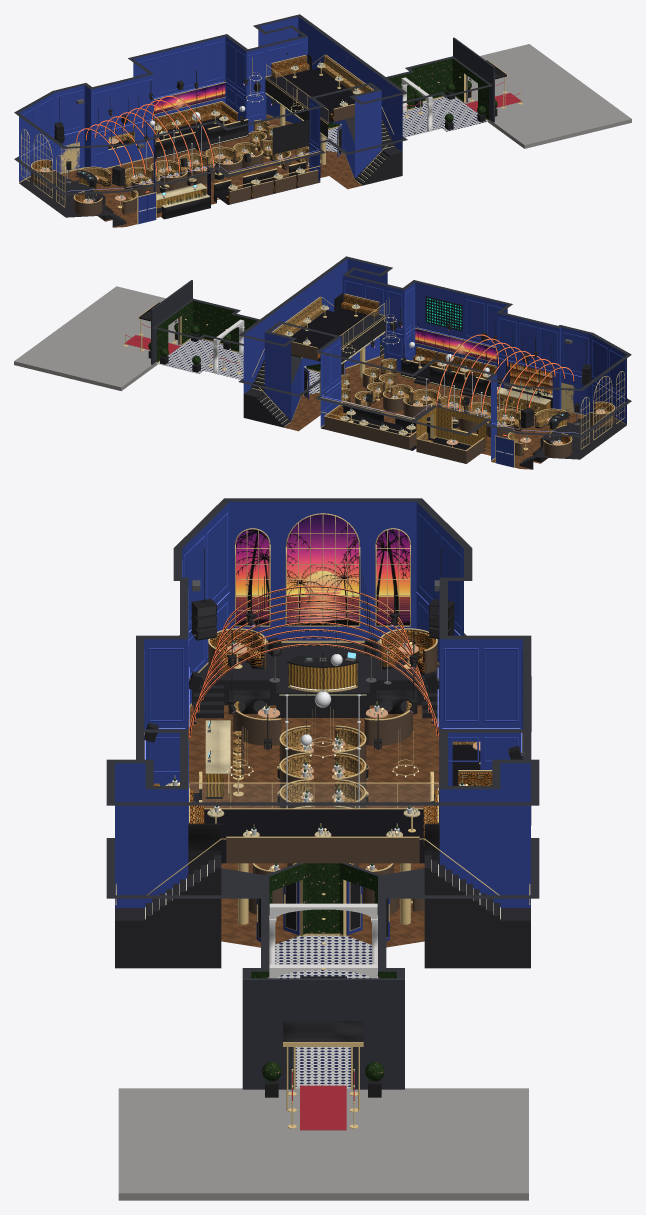
Rendered from club.glb.
The picture shows the model from 3 angles, top to bottom: view 1: azimuth 30°, elevation 25°; view 2: azimuth 150°, elevation 25°; view 3: azimuth 270°, elevation 25°; orthographic projection. The views are drawn at different scales.
Parts seen in each view (by area): view 1: L1|main|Wall blue, F|main|Pavement, L0|main|Wall blue, L0|main|Leather taupe, L0|main|Parquet, L0|main|Gold, L0|main|Stage floor, L1|main|Wall cut, L0|main|Black lacquer, L0|main|Leopard, L0|main|Hedge, L1|main|Black (+24 smaller); view 2: L1|main|Wall blue, F|main|Pavement, L0|main|Wall blue, L0|main|Leather taupe, L0|main|Parquet, L0|main|Stage floor, L1|main|Wall cut, L0|main|Gold, L0|main|Leopard, L0|main|Hedge, L0|main|Wall cut, L0|main|Black lacquer (+26 smaller); view 3: F|main|Pavement, L1|main|Wall blue, L0|main|Stage floor, L0|main|Parquet, F|main|Front dark, L0|main|Wall blue, L1|main|Wall cut, L1|main|Screen stage, L0|main|Wall cut, L0|main|Leather taupe, L1|main|Carpet, L1|main|Gold (+22 smaller).
Boxes of the visible parts, x1,y1,x2,y2 form: L1|main|Wall blue: (19, 16, 402, 182); F|main|Pavement: (467, 44, 631, 148); L0|main|Wall blue: (19, 83, 402, 192); L0|main|Leather taupe: (31, 102, 321, 216); L0|main|Parquet: (60, 115, 361, 227); L0|main|Gold: (31, 55, 460, 224); L0|main|Stage floor: (19, 118, 402, 222); L1|main|Wall cut: (14, 14, 407, 148); L0|main|Black lacquer: (75, 78, 485, 218); L0|main|Leopard: (82, 121, 320, 212); L0|main|Hedge: (328, 58, 488, 128); L1|main|Black: (59, 67, 309, 174); L1|main|Wall blue: (243, 259, 626, 424); F|main|Pavement: (14, 286, 179, 391); L0|main|Wall blue: (243, 329, 626, 460); L0|main|Leather taupe: (324, 347, 614, 463); L0|main|Parquet: (284, 354, 585, 469); L0|main|Stage floor: (243, 342, 626, 464); L1|main|Wall cut: (238, 256, 631, 390); L0|main|Gold: (185, 297, 615, 467); L0|main|Leopard: (341, 359, 564, 454); L0|main|Hedge: (157, 300, 320, 371); L0|main|Wall cut: (152, 298, 631, 437); L0|main|Black lacquer: (160, 320, 570, 455); F|main|Pavement: (118, 1088, 528, 1200); L1|main|Wall blue: (115, 501, 530, 882); L0|main|Stage floor: (115, 643, 530, 968); L0|main|Parquet: (188, 705, 439, 947); F|main|Front dark: (242, 978, 404, 1089); L0|main|Wall blue: (115, 594, 530, 907); L1|main|Wall cut: (106, 498, 539, 805); L1|main|Screen stage: (236, 514, 409, 594); L0|main|Wall cut: (106, 633, 539, 978); L0|main|Leather taupe: (208, 629, 492, 914); L1|main|Carpet: (204, 809, 439, 863); L1|main|Gold: (189, 513, 438, 837).
Bounding box in the file's own units: 45.4 × 6.95 × 15.7.
61 materials, 13 textured.
